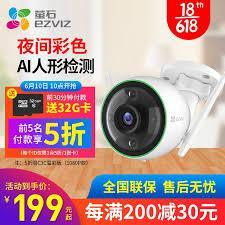tutu: (99, 70, 194, 164)
